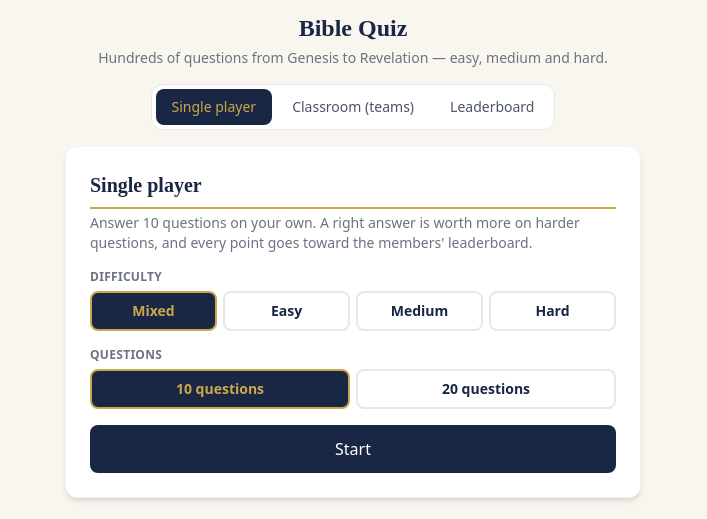
Scenario: Bible Quiz — leaderboard › says so when nobody has played
Click the tab "Leaderboard" at (492, 107), box [434,89,550,125]
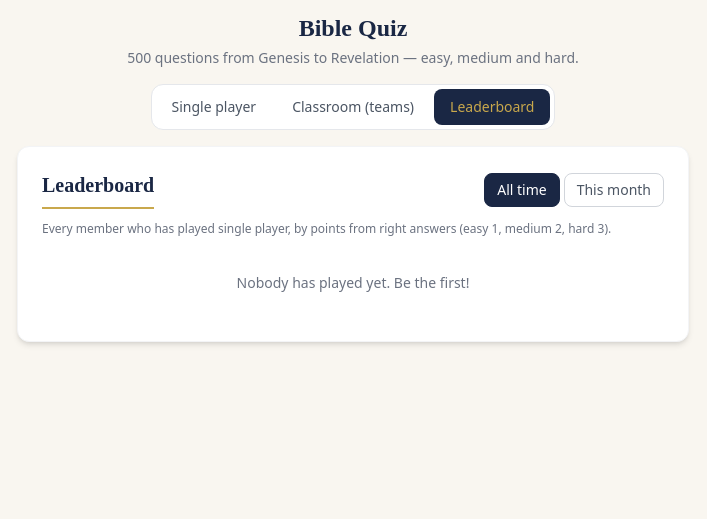
Check: the text "Nobody has played yet. Be the first!" is shown, box [236,273,469,292]
